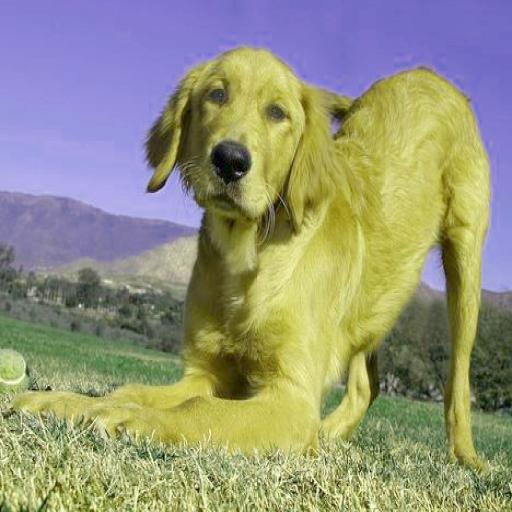dog_face: (148, 46, 338, 226)
